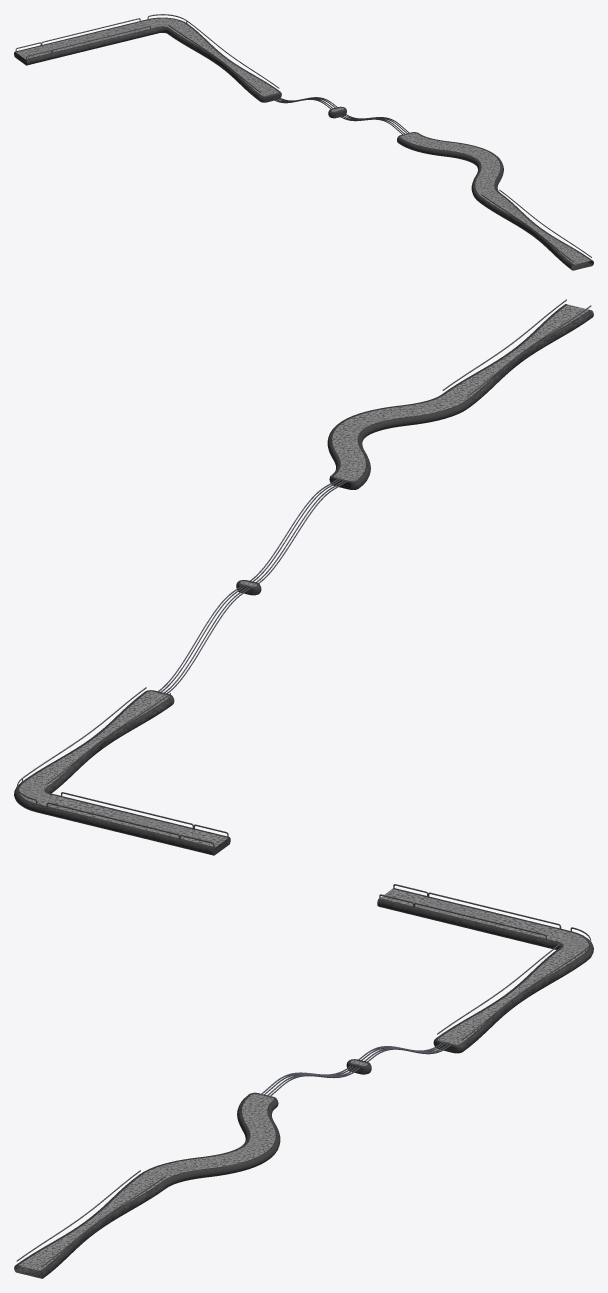
File: map31.fbx
3 renders of one model, top to bottom at view 1: azimuth 30°, elevation 25°; view 2: azimuth 150°, elevation 25°; view 3: azimuth 330°, elevation 25°, orthographic. The views are drawn at different scales.
Parts seen in each view (by area): view 1: Dummy_Start_1; view 2: Dummy_Start_1; view 3: Dummy_Start_1.
Boxes of the visible parts, bbox=[...] form: Dummy_Start_1: bbox=[14, 14, 593, 270]; Dummy_Start_1: bbox=[14, 299, 593, 855]; Dummy_Start_1: bbox=[14, 884, 593, 1278].
Bounding box in the file's own units: 4399 × 1492 × 16445.
Materials: 6 (6 with a texture image).
